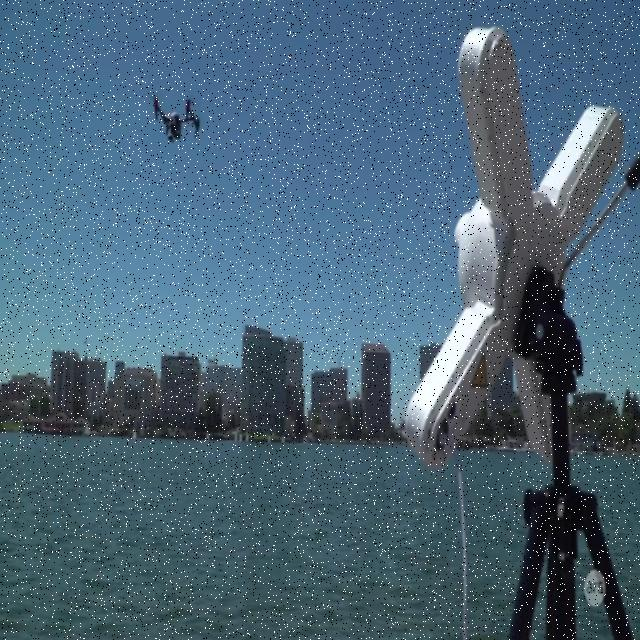UAV: (150, 93, 200, 143)
